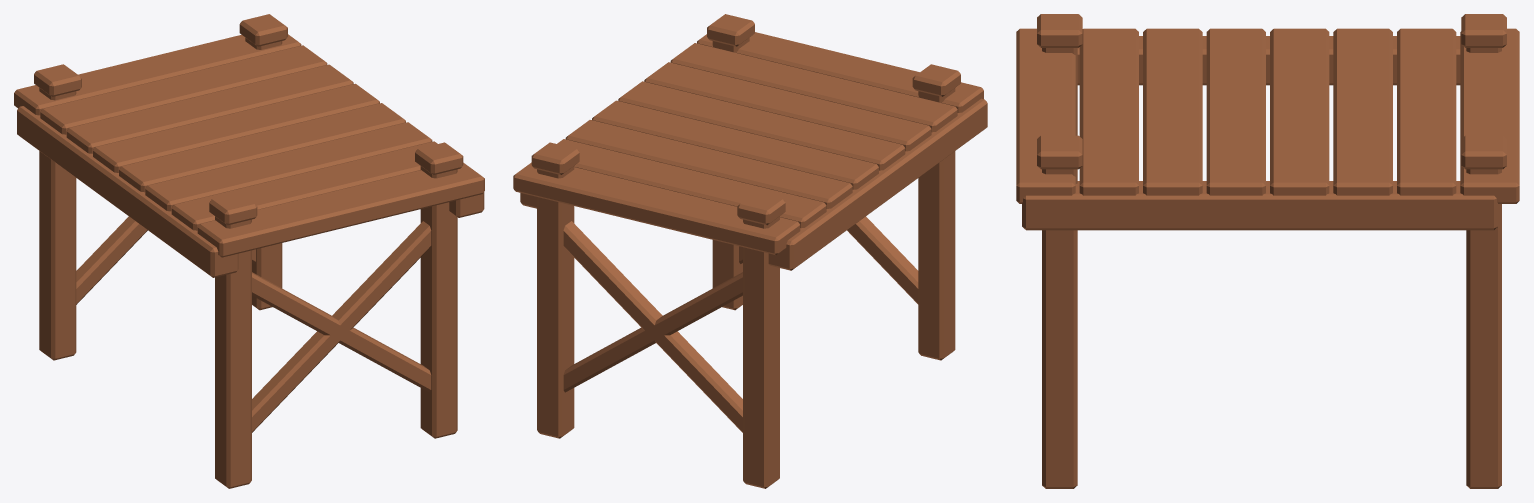
The model's file is SM_Menu_BackstageScaffold.fbx.
3 views of the same model, side by side, from view 1: azimuth 30°, elevation 25°; view 2: azimuth 150°, elevation 25°; view 3: azimuth 270°, elevation 25° (orthographic). The views are drawn at different scales.
Parts seen in each view (by area): view 1: SM_Menu_BackstageScaffold; view 2: SM_Menu_BackstageScaffold; view 3: SM_Menu_BackstageScaffold.
Part boxes in pixels (x1,y1,x2,y2): SM_Menu_BackstageScaffold: [14, 14, 484, 488]; SM_Menu_BackstageScaffold: [513, 14, 987, 488]; SM_Menu_BackstageScaffold: [1016, 14, 1519, 488].
Bounding box in the file's own units: 193 × 254 × 189.
